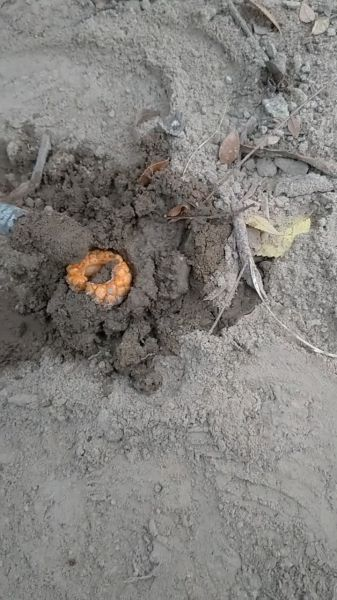eggs: (57, 243, 138, 314)
